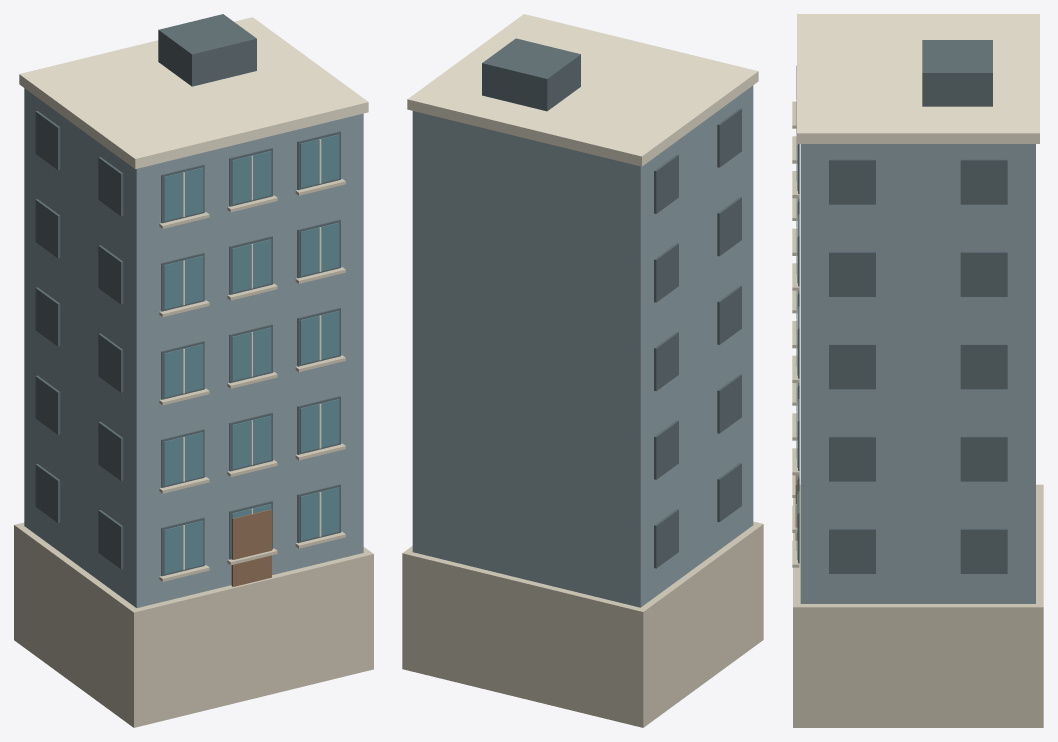
Rendered from tower-0.glb.
The picture shows the model from 3 angles, left to right: view 1: azimuth 30°, elevation 25°; view 2: azimuth 150°, elevation 25°; view 3: azimuth 270°, elevation 25°; orthographic projection. The views are drawn at different scales.
Size of the model in its own units: 7.4 by 17.65 by 6.42.
